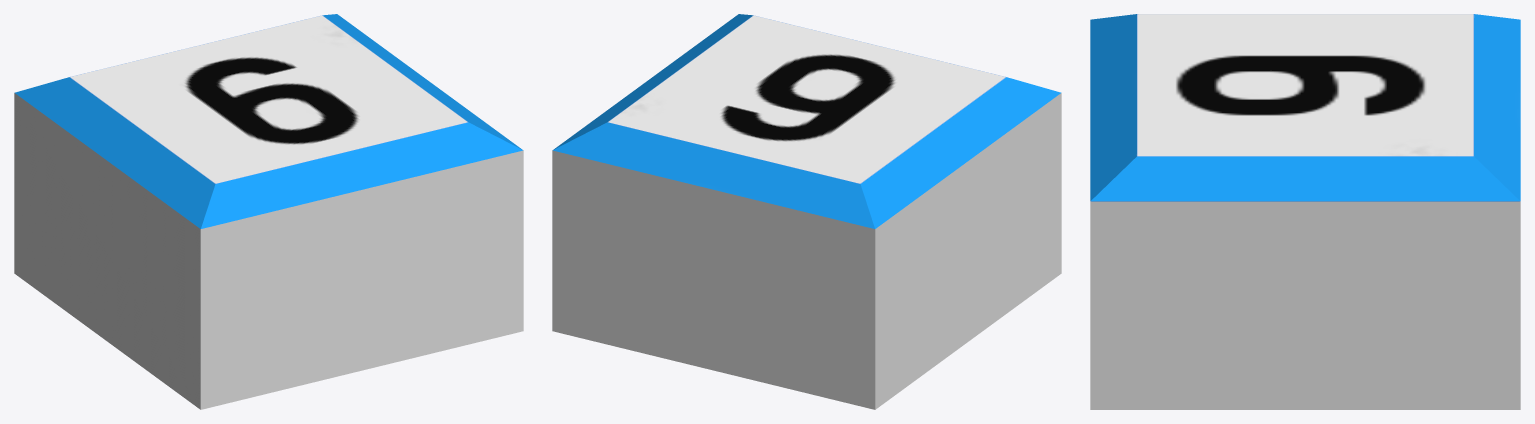
The picture shows the model from 3 angles, left to right: view 1: azimuth 30°, elevation 25°; view 2: azimuth 150°, elevation 25°; view 3: azimuth 270°, elevation 25°; orthographic projection. The views are drawn at different scales.
Visible parts, largest first — view 1: button.005; view 2: button.005; view 3: button.005.
Boxes of the visible parts, x1,y1,x2,y2 form: button.005: (14, 14, 523, 409); button.005: (552, 14, 1061, 409); button.005: (1090, 14, 1520, 409).
Size of the model in its own units: 20 by 12 by 20.
